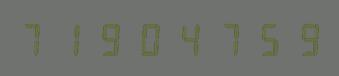five: (245, 20, 282, 56)
four: (169, 20, 206, 56)
nine: (93, 20, 130, 56), (283, 20, 320, 56)
one: (55, 20, 92, 56)
seven: (17, 20, 54, 56), (207, 20, 244, 56)
zero: (131, 20, 168, 56)
